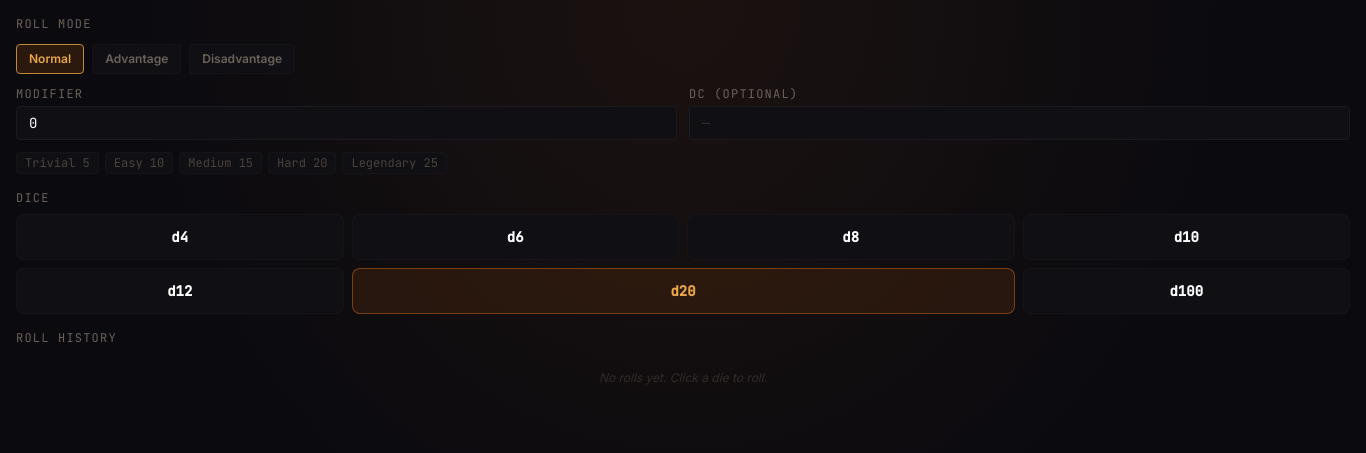
Test: DicePanel — rolling dice › shows Clear button after at least one roll
The image size is (1366, 453).
Click the button "d4". click: click(180, 237)
box: [16,214,344,260]
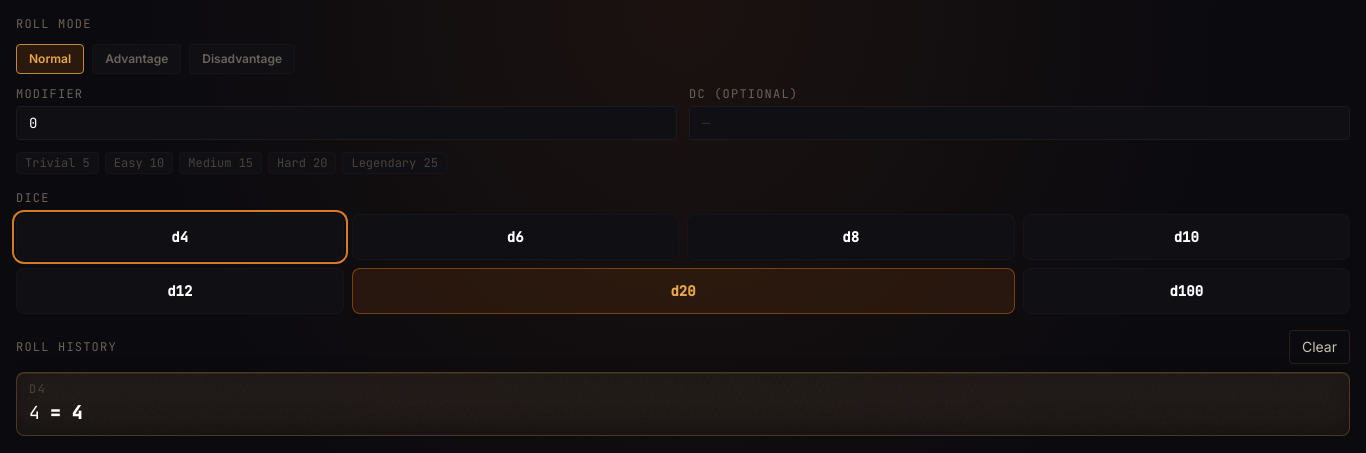
Result: the button "Clear" is shown at [1289,330,1350,364]
